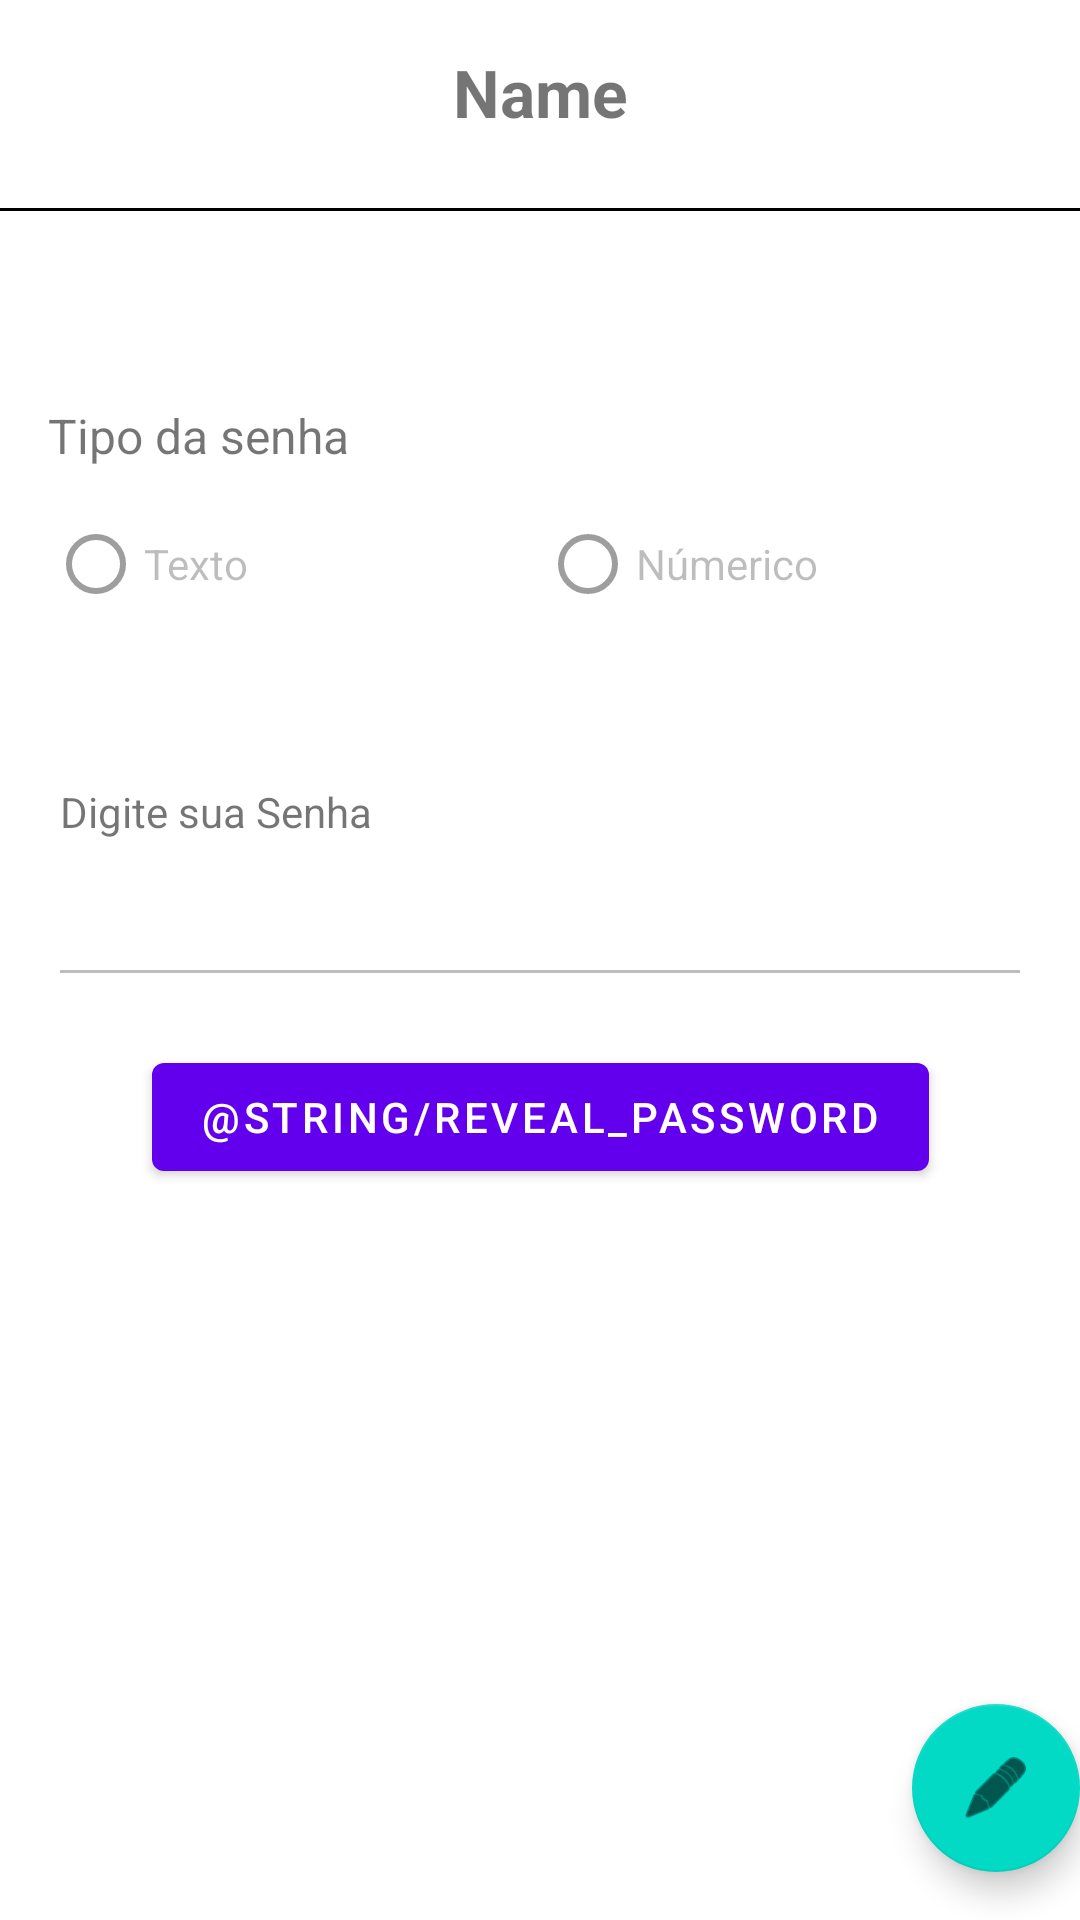

Named icons in this screenshot (1080*1920) and their bounding boxes, (x1, y1, x2, y2):
edit: (912, 1704, 1080, 1872)
